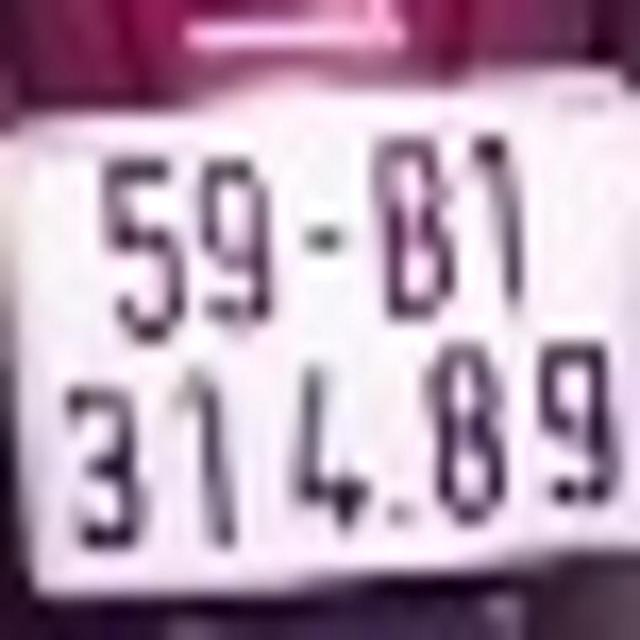1: (162, 362, 248, 549), (471, 121, 539, 321)
3: (56, 375, 145, 552)
4: (276, 355, 382, 535)
5: (90, 143, 194, 355)
8: (414, 329, 517, 530)
9: (528, 330, 628, 517), (197, 145, 286, 345)
B: (364, 122, 464, 325)
